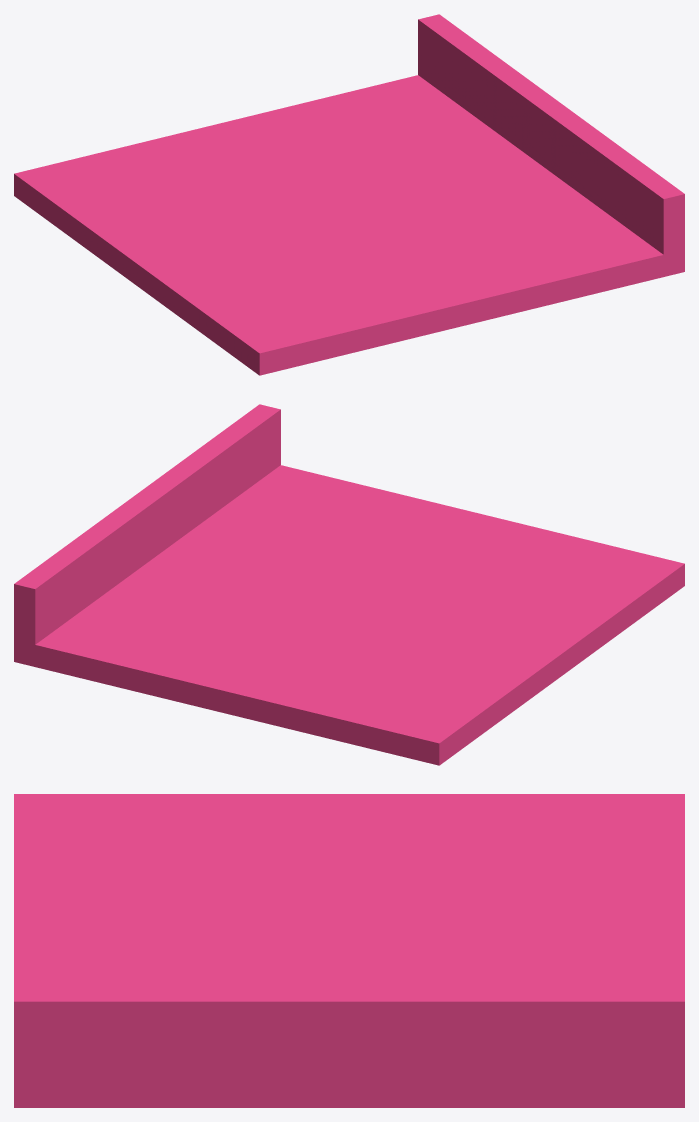
File: PinkRoof_1Edge.glb
3 views of the same model, one above another, from view 1: azimuth 30°, elevation 25°; view 2: azimuth 150°, elevation 25°; view 3: azimuth 270°, elevation 25° (orthographic). The views are drawn at different scales.
Parts seen in each view (by area): view 1: roof_flat_1Edge_pink; view 2: roof_flat_1Edge_pink; view 3: roof_flat_1Edge_pink.
Part boxes in pixels (bbox=[...]): roof_flat_1Edge_pink: bbox=[14, 14, 684, 375]; roof_flat_1Edge_pink: bbox=[14, 404, 684, 765]; roof_flat_1Edge_pink: bbox=[14, 794, 684, 1107].
Size of what is drawn, in the model's own units: 4 by 0.7 by 4.
Materials: 1 (1 with a texture image).
